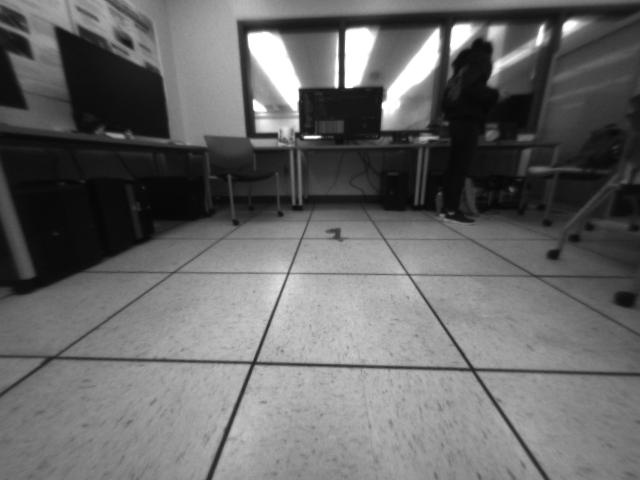X: (328, 227, 347, 242)
